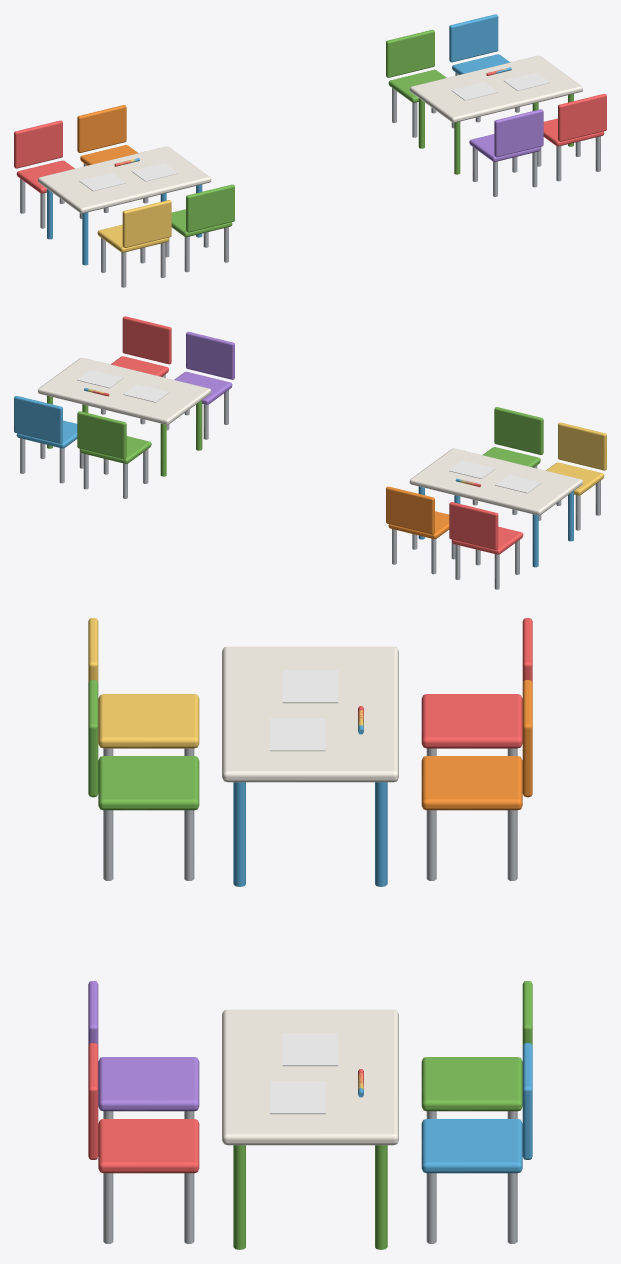
Rendered from kdesk.glb.
The picture shows the model from 3 angles, top to bottom: view 1: azimuth 30°, elevation 25°; view 2: azimuth 150°, elevation 25°; view 3: azimuth 270°, elevation 25°; orthographic projection. The views are drawn at different scales.
Size of the model in its own units: 4.6 by 0.69 by 1.76.
